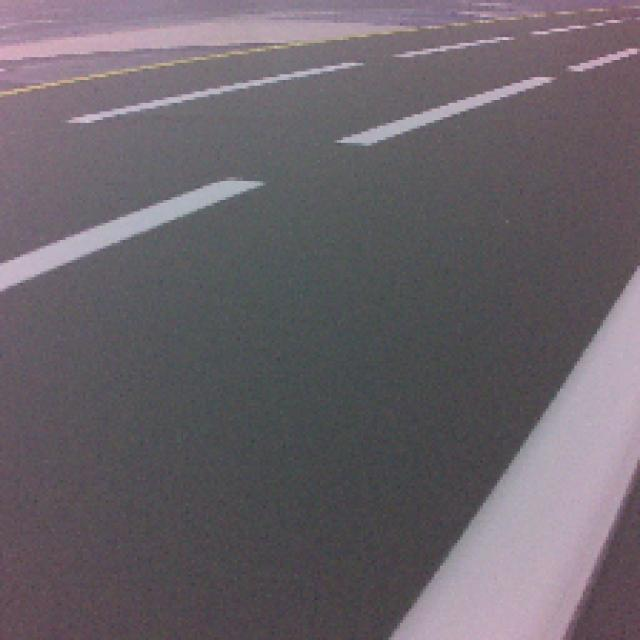Road: (0, 298, 615, 640)
